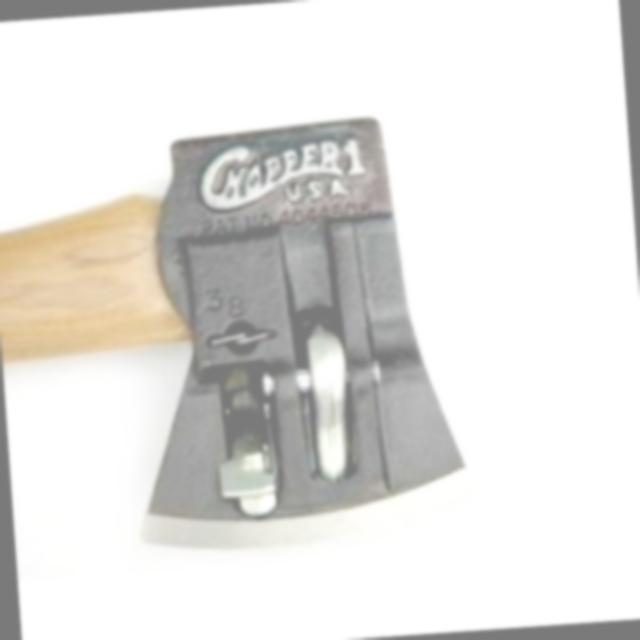ax: (0, 101, 488, 575)
